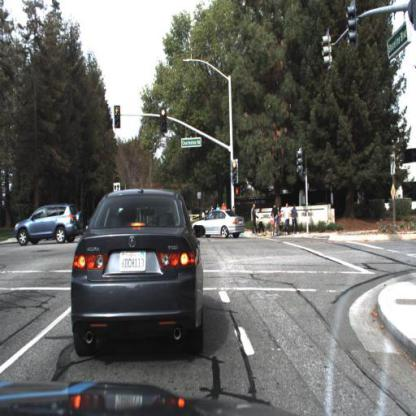biker: (206, 206, 220, 237), (273, 202, 282, 237)
car: (70, 184, 207, 361), (15, 204, 84, 246), (194, 206, 248, 241)
pedestrian: (250, 201, 260, 237), (258, 204, 267, 237), (283, 202, 291, 238), (291, 203, 299, 236), (292, 205, 300, 236), (277, 204, 284, 231), (216, 202, 222, 222), (221, 202, 226, 218)
trafficLight-Red: (159, 105, 169, 136), (230, 159, 241, 186)
trafficLight-RedLeft: (113, 103, 123, 131)
